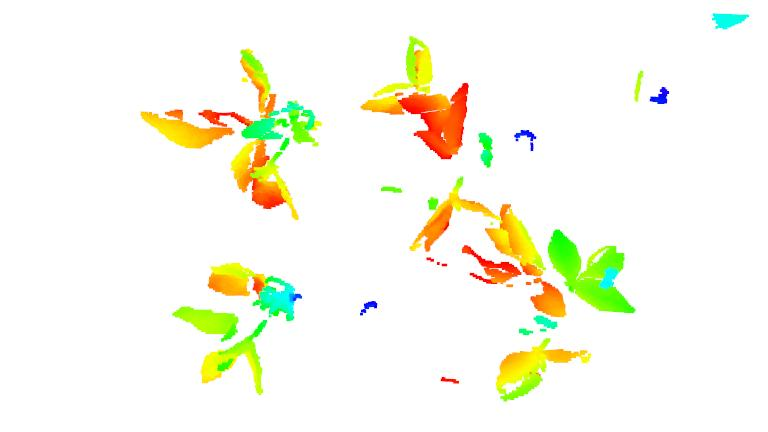mungbean: (463, 209, 643, 403), (139, 48, 318, 220), (367, 36, 501, 247), (166, 259, 315, 399)
